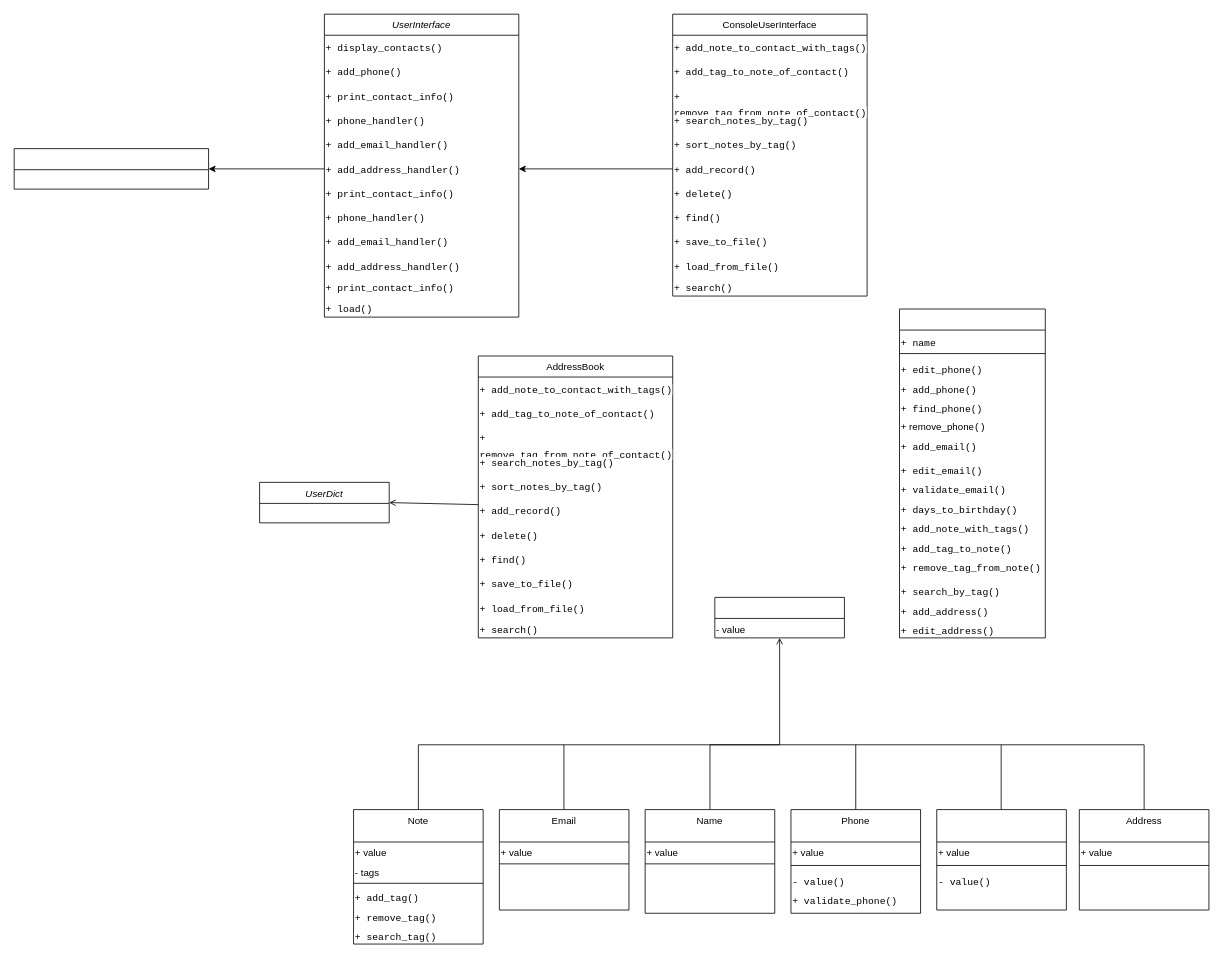
Image size: 1223x961. Some labels were removed from this diagram. Here are the shapes that lost their labels. From the top down, the box of each, then its label:
(13, 148, 209, 189): ABC
(899, 308, 1045, 638): Record
(714, 597, 844, 638): Field
(936, 809, 1066, 910): Birthday
